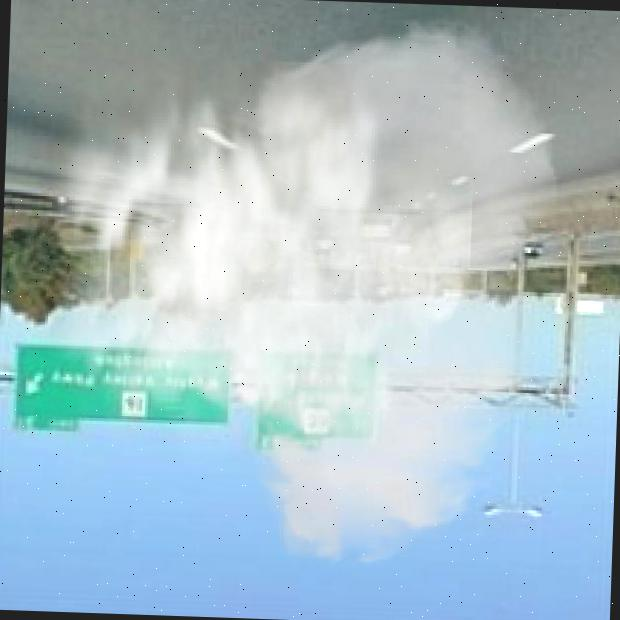smoke: (13, 0, 567, 576)
